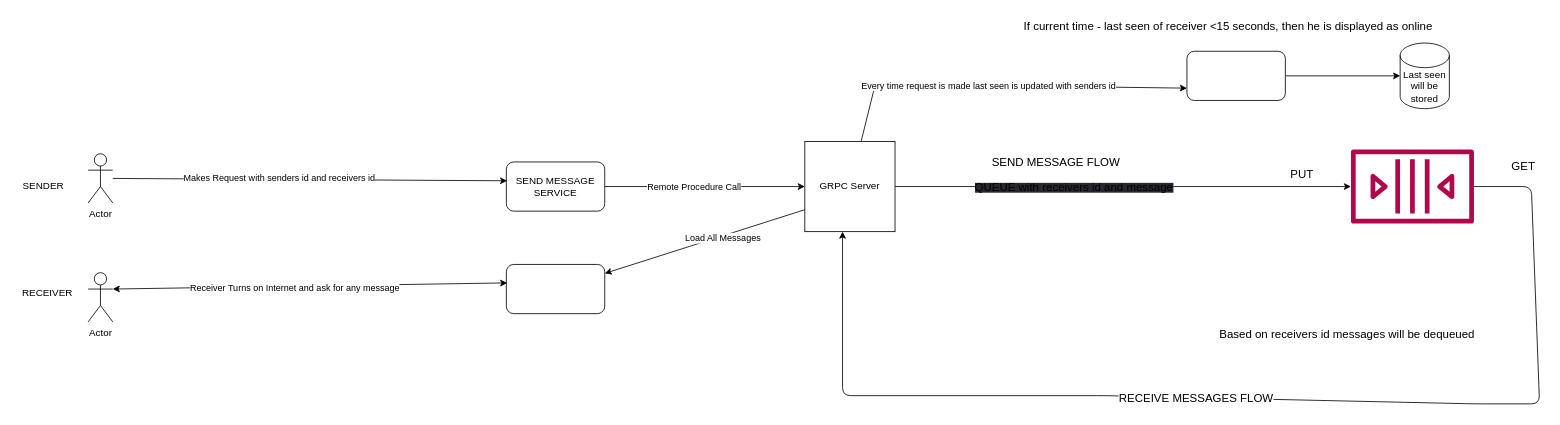
Some shapes in this 1560 by 425 pixel diagram are drawn without their labels. The centre of each missing label's shape, as x and y in pixels:
"LAST SEEN AS SERVICE" goes at pixel 1235 75.
"LOAD MESSAGE SERVICE" goes at pixel 555 289.
